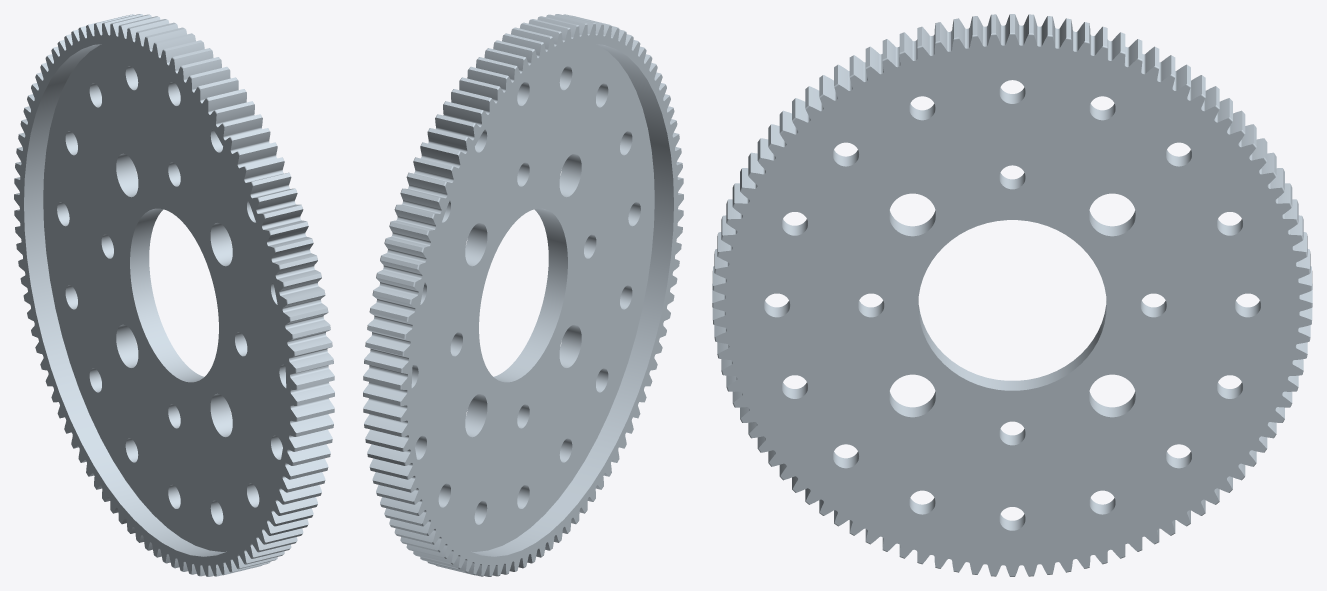
The model's file is 100T_gear - 615234.obj.
The picture shows the model from 3 angles, left to right: view 1: azimuth 30°, elevation 25°; view 2: azimuth 150°, elevation 25°; view 3: azimuth 270°, elevation 25°; orthographic projection. The views are drawn at different scales.
Parts seen in each view (by area): view 1: mesh1, mesh823, mesh26, mesh25, mesh0, mesh4, mesh2, mesh3, mesh414, mesh525, mesh530, mesh419 (+3 smaller); view 2: mesh1, mesh823, mesh26, mesh25, mesh2, mesh3, mesh0, mesh4, mesh695, mesh584, mesh579, mesh690 (+3 smaller); view 3: mesh27, mesh25.
Boxes of the visible parts, box(x1,y1,x2,y2) form: mesh1: box(43, 43, 286, 551); mesh823: box(14, 24, 296, 575); mesh26: box(24, 44, 226, 556); mesh25: box(130, 208, 203, 382); mesh0: box(210, 393, 232, 437); mesh4: box(210, 223, 232, 266); mesh2: box(116, 324, 138, 367); mesh3: box(116, 153, 138, 197); mesh414: box(288, 444, 330, 462); mesh525: box(208, 92, 246, 111); mesh530: box(200, 80, 238, 99); mesh419: box(290, 430, 332, 447); mesh1: box(411, 43, 654, 551); mesh823: box(401, 24, 683, 575); mesh26: box(471, 44, 673, 556); mesh25: box(494, 208, 567, 382); mesh2: box(465, 393, 487, 437); mesh3: box(465, 223, 487, 266); mesh0: box(559, 324, 581, 367); mesh4: box(559, 153, 581, 197); mesh695: box(367, 444, 409, 462); mesh584: box(451, 92, 489, 111); mesh579: box(459, 80, 497, 99); mesh690: box(365, 430, 407, 447); mesh27: box(713, 34, 1311, 575); mesh25: box(918, 301, 1106, 390).
Size of the model in its own units: 0.00635 by 0.081 by 0.081.
